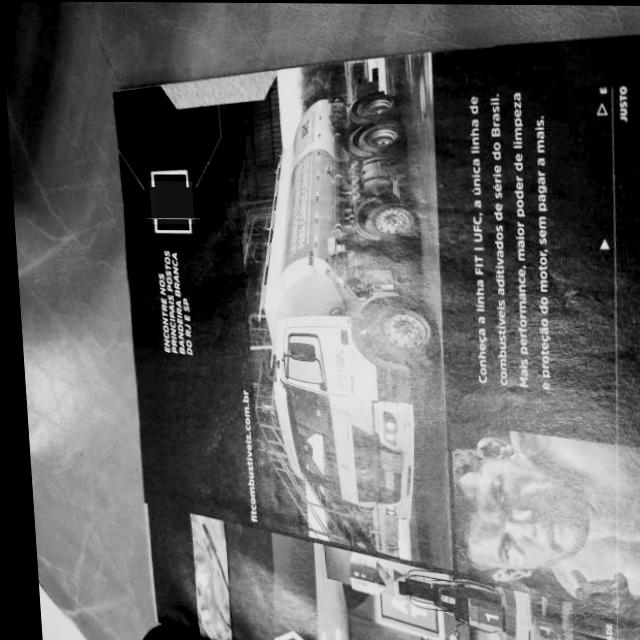qr_code: (146, 180, 192, 223)
